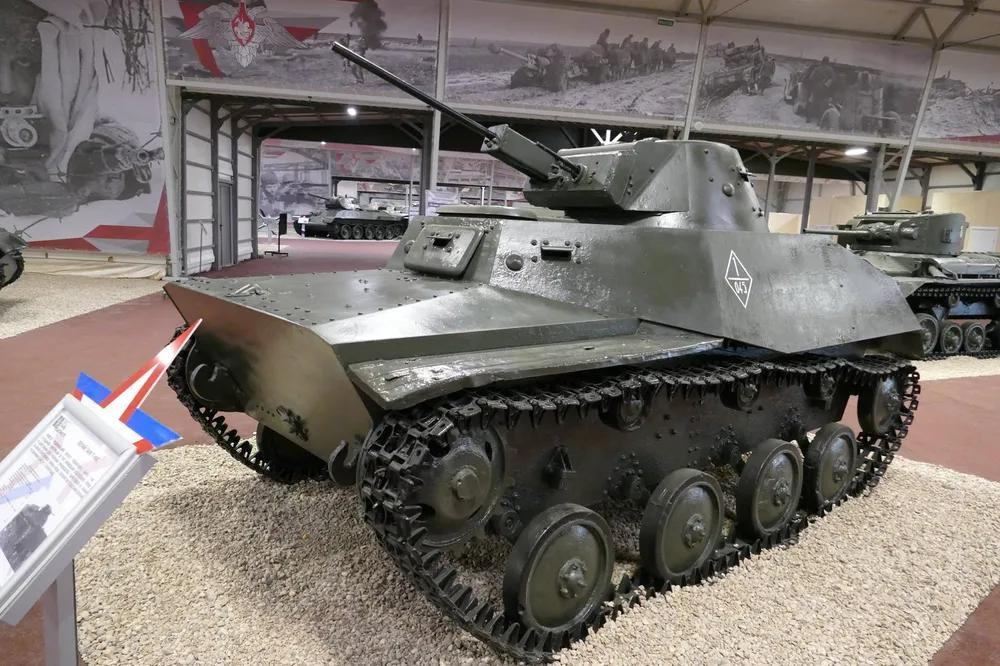MIL_IFV: (167, 117, 923, 657)
